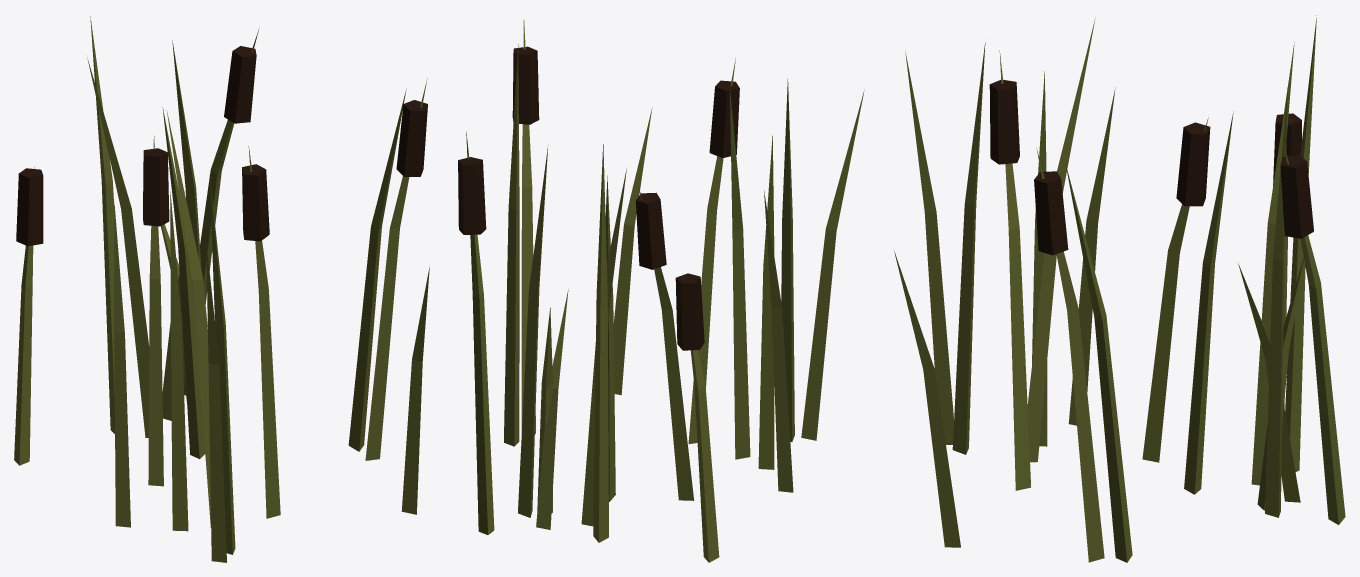
The model's file is juncos.fbx.
The picture shows the model from 3 angles, left to right: view 1: azimuth 30°, elevation 25°; view 2: azimuth 150°, elevation 25°; view 3: azimuth 270°, elevation 25°; orthographic projection. The views are drawn at different scales.
Parts seen in each view (by area): view 1: juncos; view 2: juncos; view 3: juncos.
Boxes of the visible parts, bbox=[...] form: juncos: bbox=[14, 16, 429, 562]; juncos: bbox=[458, 19, 864, 562]; juncos: bbox=[894, 15, 1345, 562].
Bounding box in the file's own units: 1.35 × 1.74 × 1.58.
